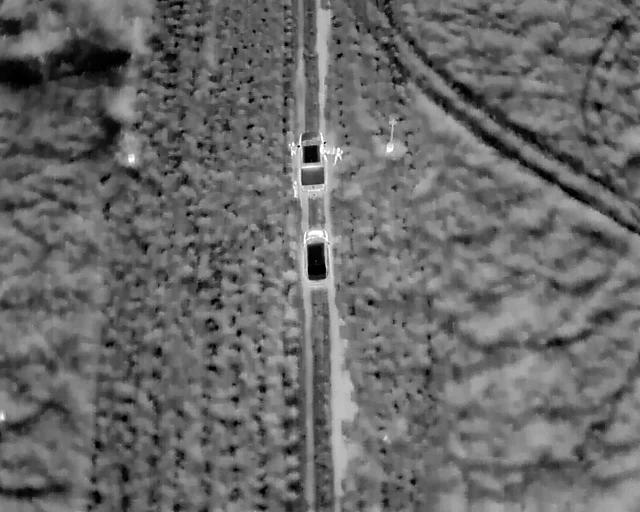car: (298, 129, 327, 192), (303, 228, 332, 282)
person: (286, 138, 298, 158), (288, 178, 300, 198), (332, 144, 344, 164), (319, 141, 330, 161)
